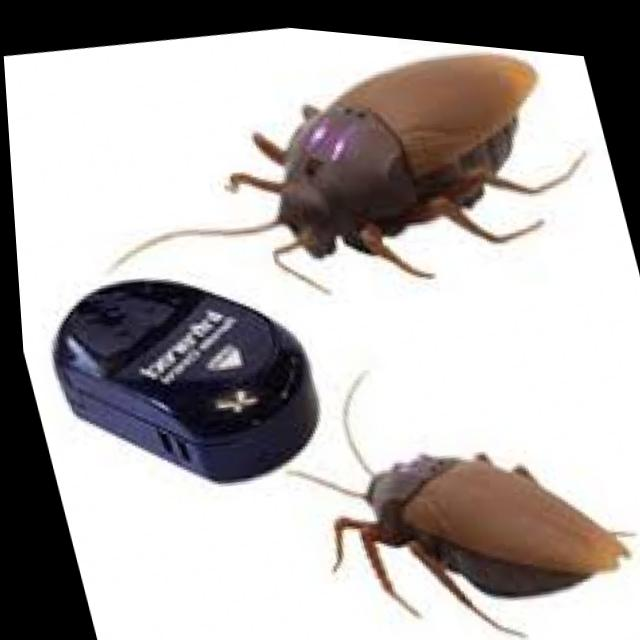Cockroach: (113, 9, 629, 352), (231, 301, 640, 640)
